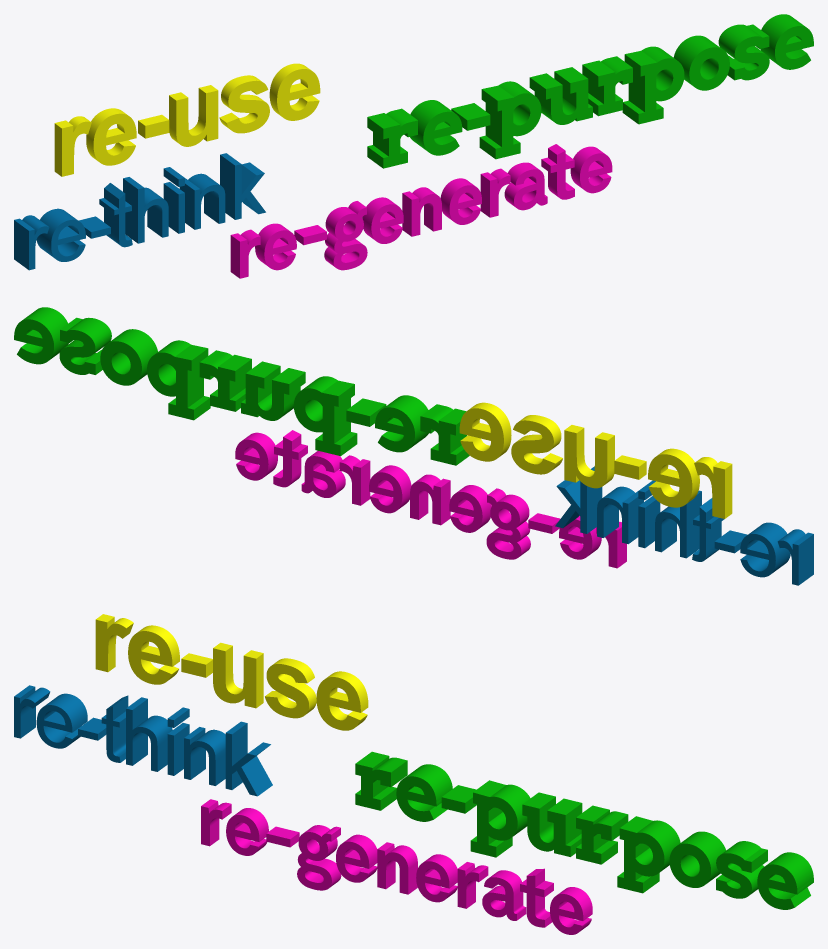
File: Re Words.fbx
3 views of the same model, one above another, from view 1: azimuth 30°, elevation 25°; view 2: azimuth 150°, elevation 25°; view 3: azimuth 330°, elevation 25° (orthographic). The views are drawn at different scales.
Parts seen in each view (by area): view 1: AR WORDS, re-think; view 2: AR WORDS, re-think; view 3: AR WORDS, re-think.
Boxes of the visible parts, left/top/right/bottom form: AR WORDS: left=54, top=14, right=813, bottom=278; re-think: left=14, top=153, right=265, bottom=270; AR WORDS: left=14, top=307, right=732, bottom=568; re-think: left=555, top=466, right=813, bottom=585; AR WORDS: left=95, top=614, right=813, bottom=934; re-think: left=14, top=685, right=272, bottom=796.
Bounding box in the file's own units: 6.51 × 0.6571 × 1.41.
